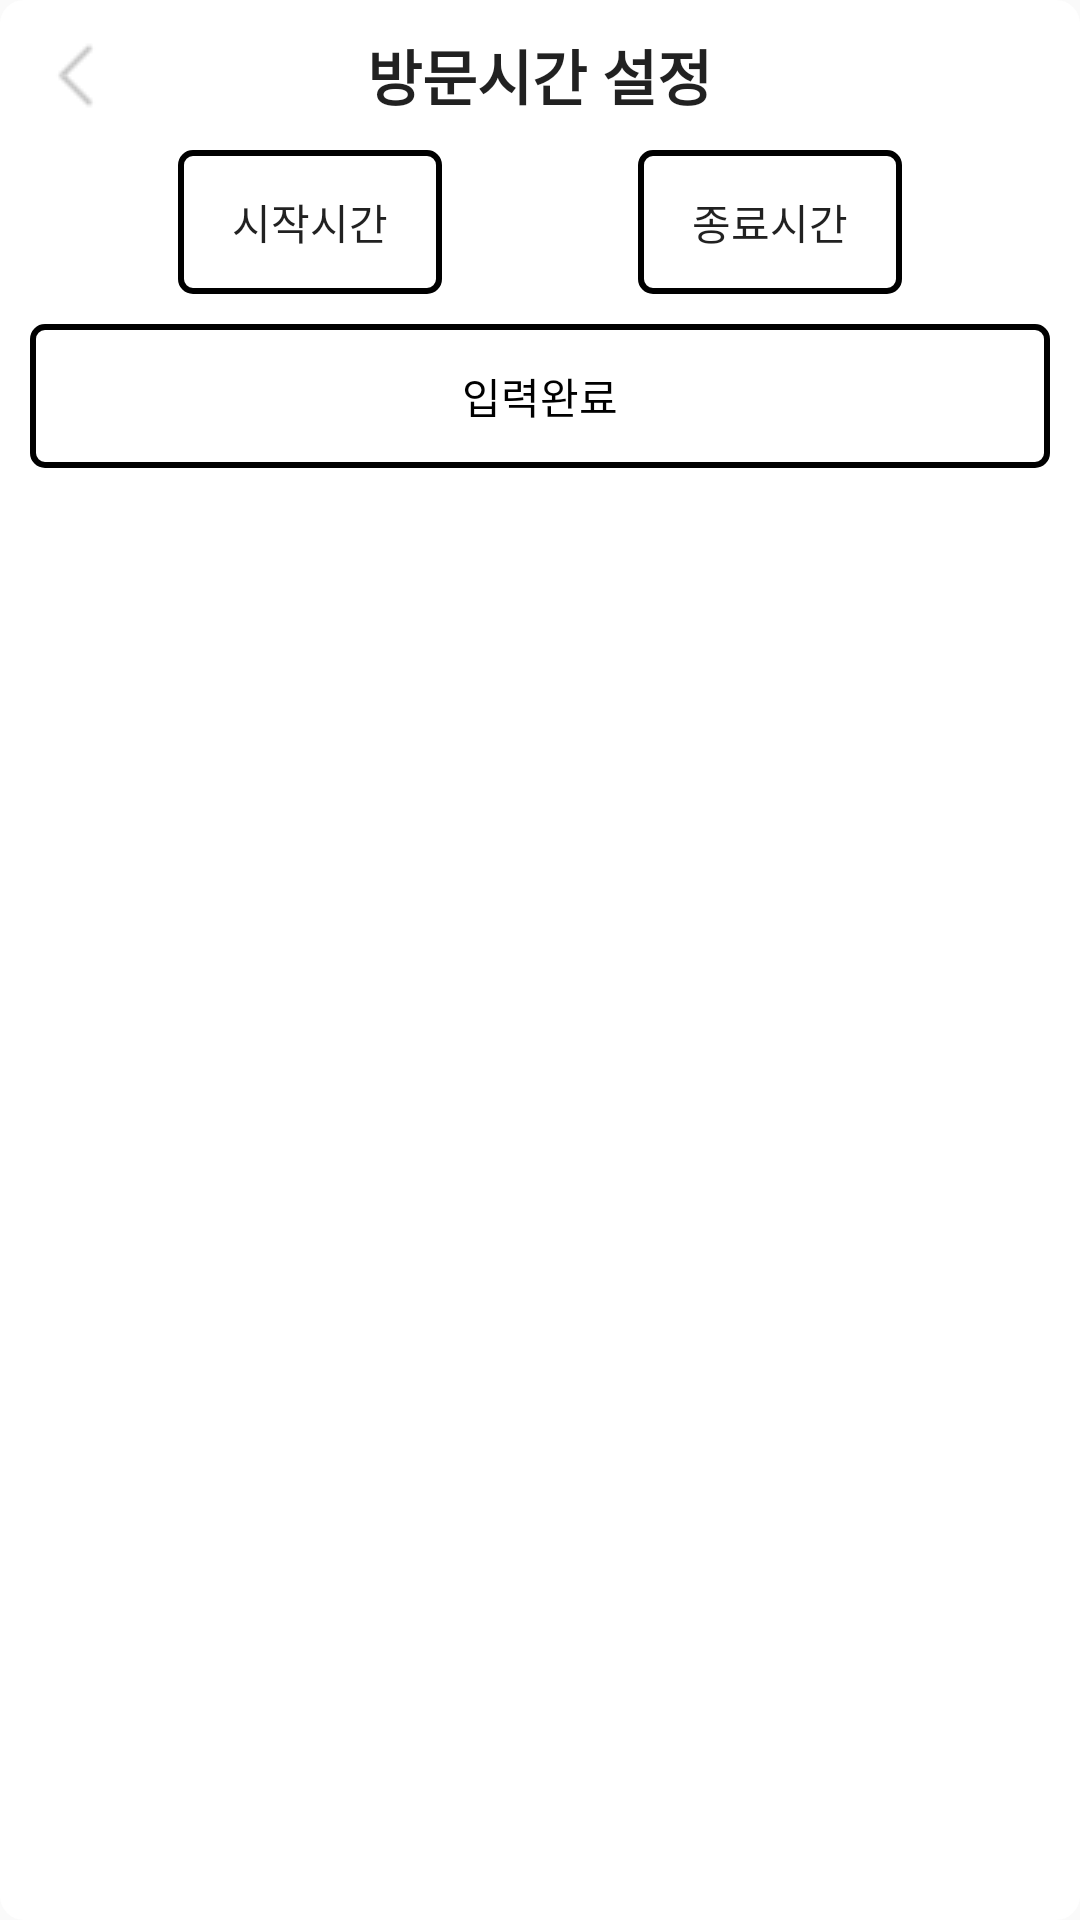

Point at icon controls on the screen. Image size 1080×1920, points as (x,y).
back: (75,75)
